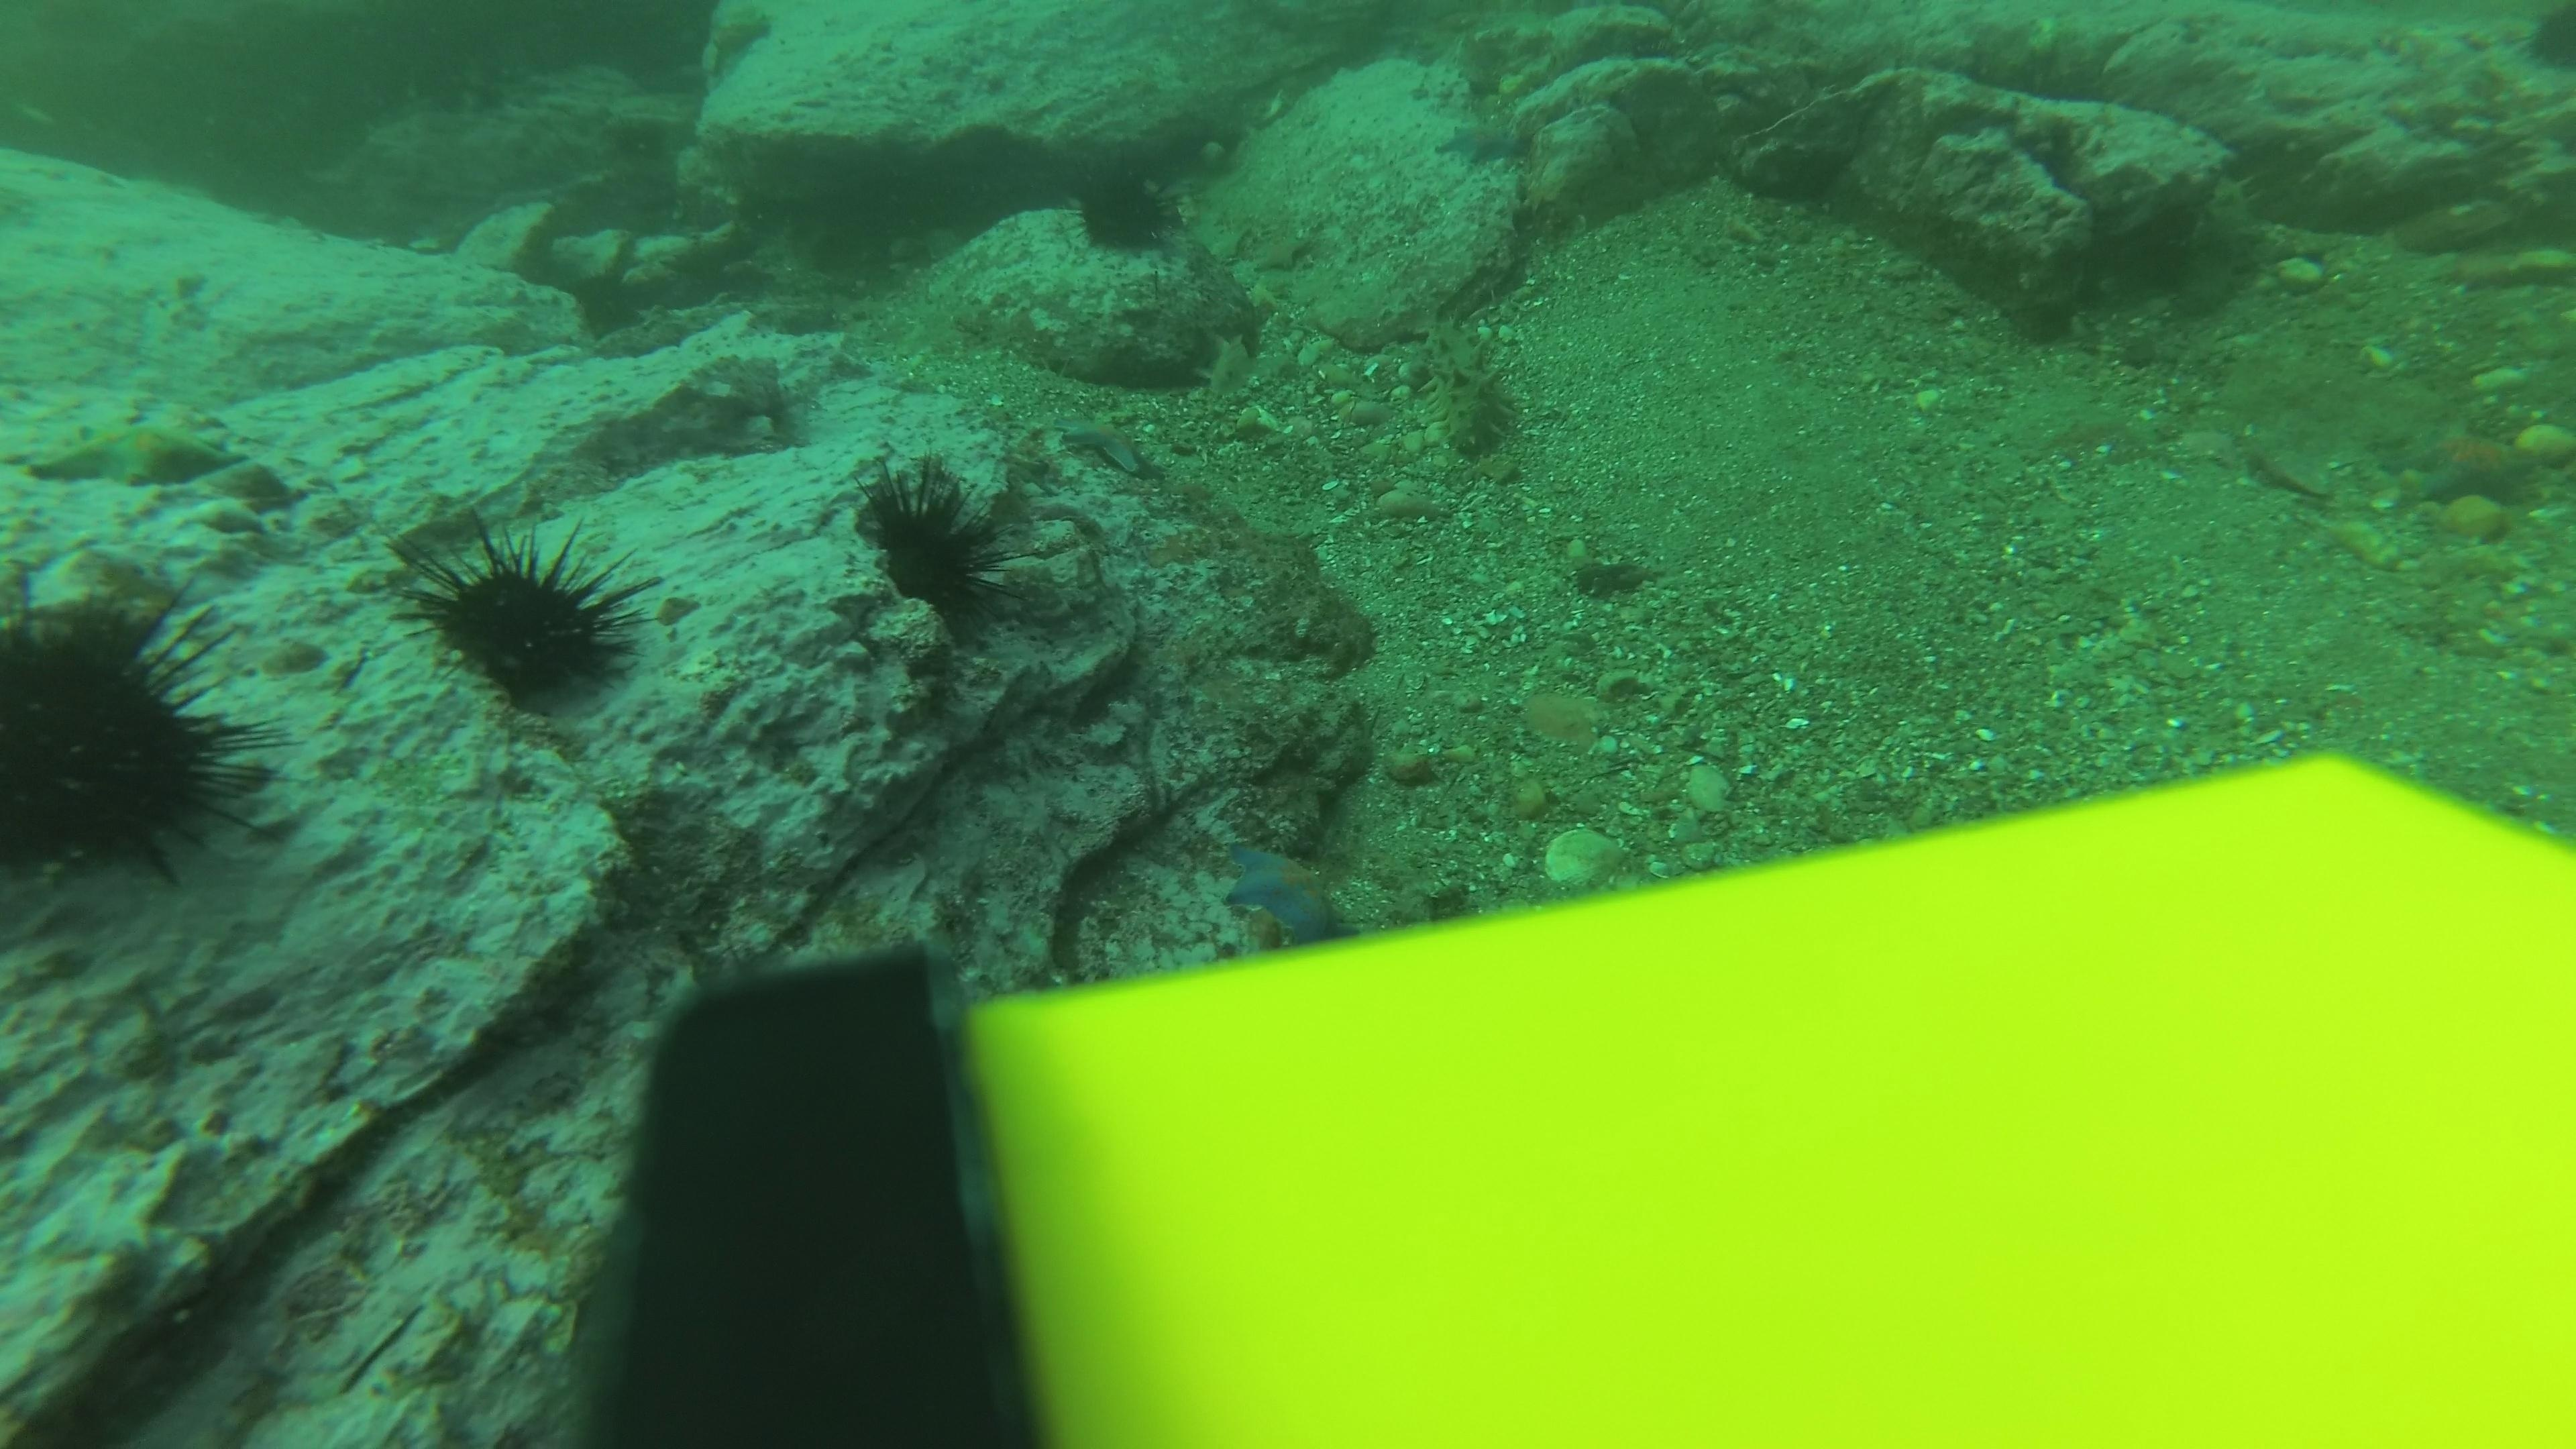echinus: (2, 580, 274, 885), (396, 513, 649, 713), (846, 453, 1021, 633), (1067, 157, 1185, 258)
holothurian: (1410, 317, 1527, 472), (1203, 327, 1263, 416)
starfish: (25, 414, 255, 494), (1217, 833, 1359, 945), (2394, 421, 2551, 511), (1049, 412, 1161, 479), (695, 4, 777, 80), (1233, 214, 1322, 278), (1435, 115, 1529, 172)
